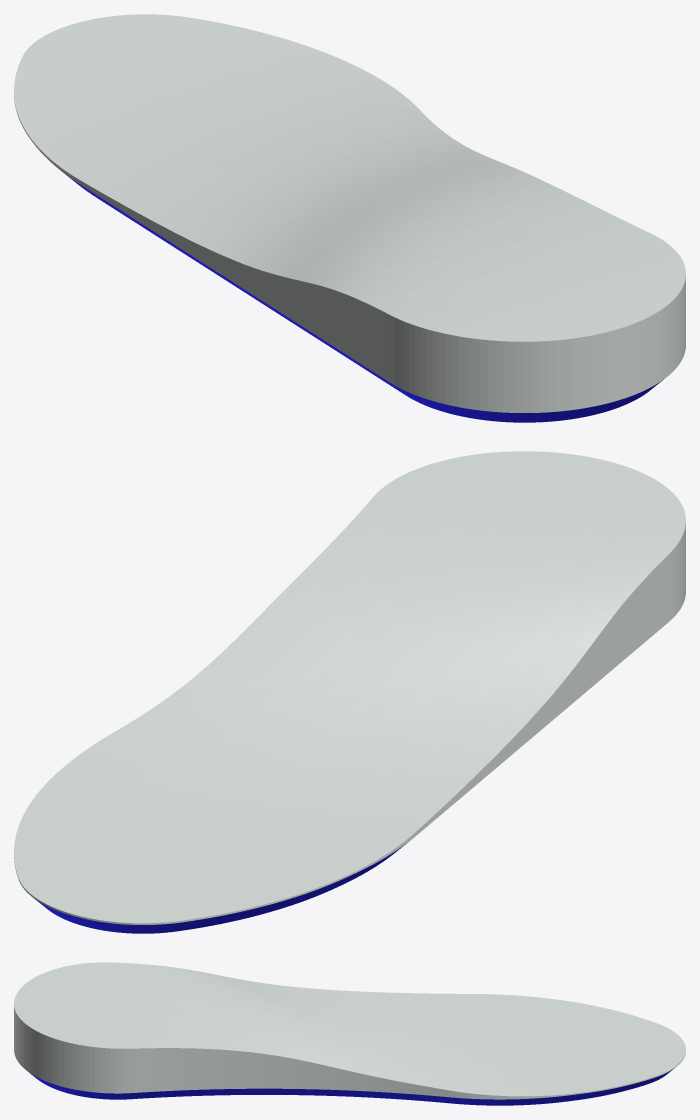
The model's file is somila.gltf.
3 views of the same model, one above another, from view 1: azimuth 30°, elevation 25°; view 2: azimuth 150°, elevation 25°; view 3: azimuth 270°, elevation 25° (orthographic). The views are drawn at different scales.
Visible parts, largest first — view 1: Left-Insole; view 2: Left-Insole; view 3: Left-Insole.
Part boxes in pixels (<box>): Left-Insole: <box>14,14,685,422</box>; Left-Insole: <box>14,451,685,933</box>; Left-Insole: <box>14,962,685,1105</box>.
Bounding box in the file's own units: 96.16 × 24.99 × 265.
